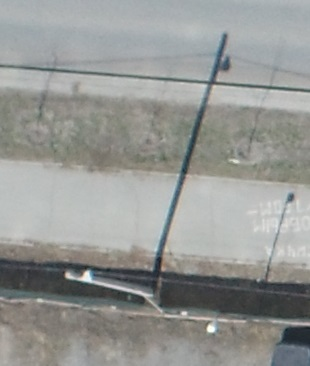opora: (61, 233, 193, 305)
